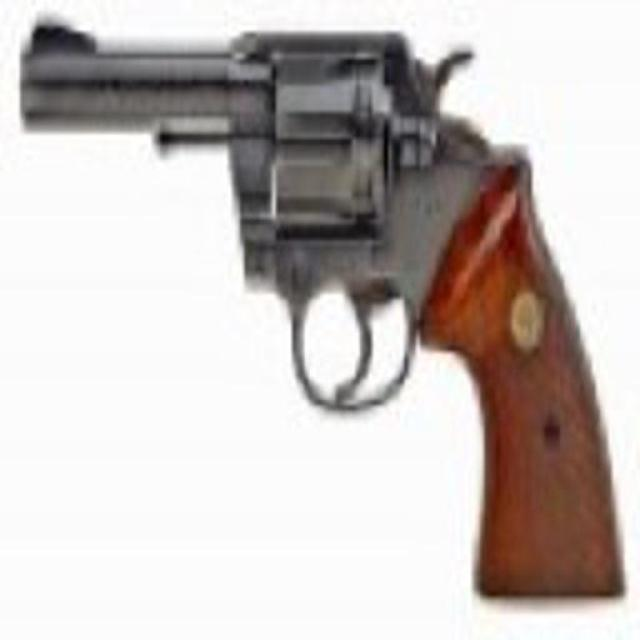pistol: (15, 15, 627, 596)
